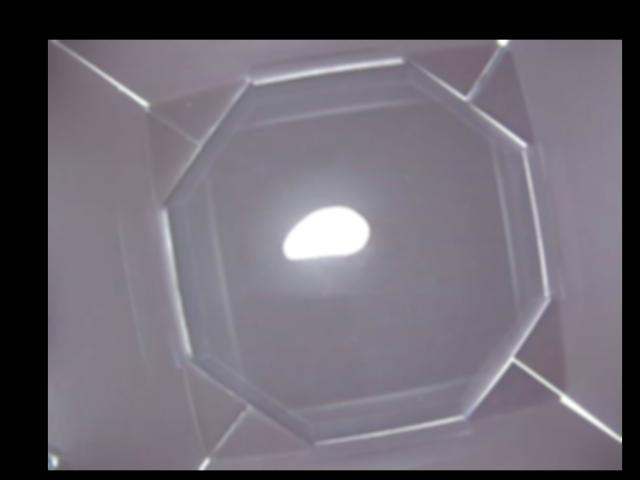Pebble: (282, 207, 369, 259)
